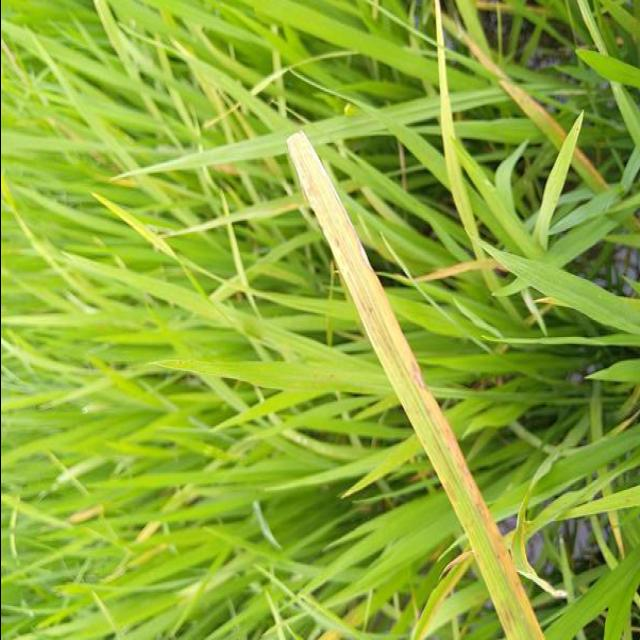Leaf Blight: (287, 132, 549, 640), (457, 27, 562, 150), (415, 252, 511, 283), (571, 146, 608, 194)
